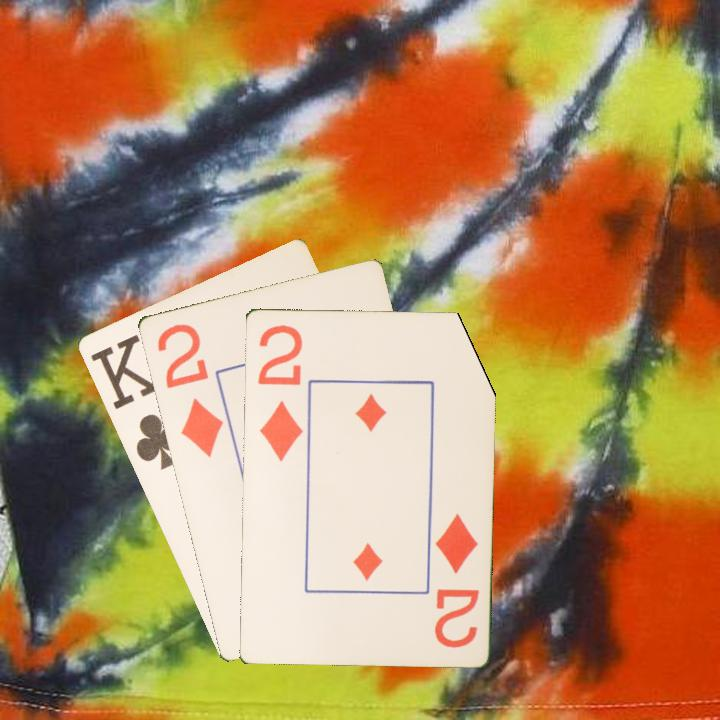2d: (153, 320, 226, 460), (254, 320, 305, 464), (430, 509, 482, 650)
Kc: (86, 330, 186, 473)
